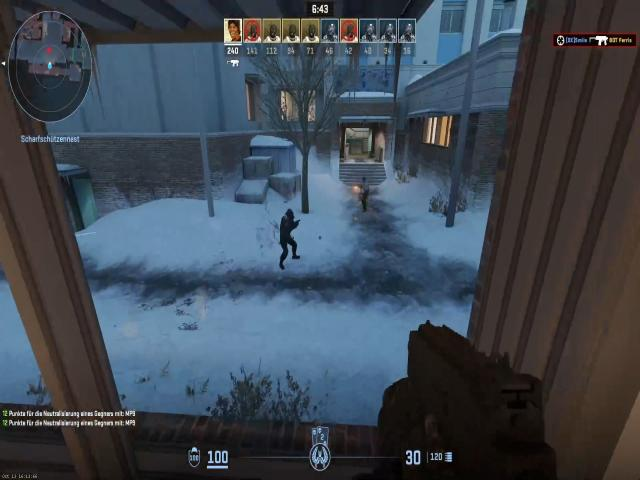CT: (279, 210, 297, 252)
CT-Head: (283, 207, 295, 226)
T: (361, 176, 370, 197)
T-Head: (361, 176, 368, 186)
